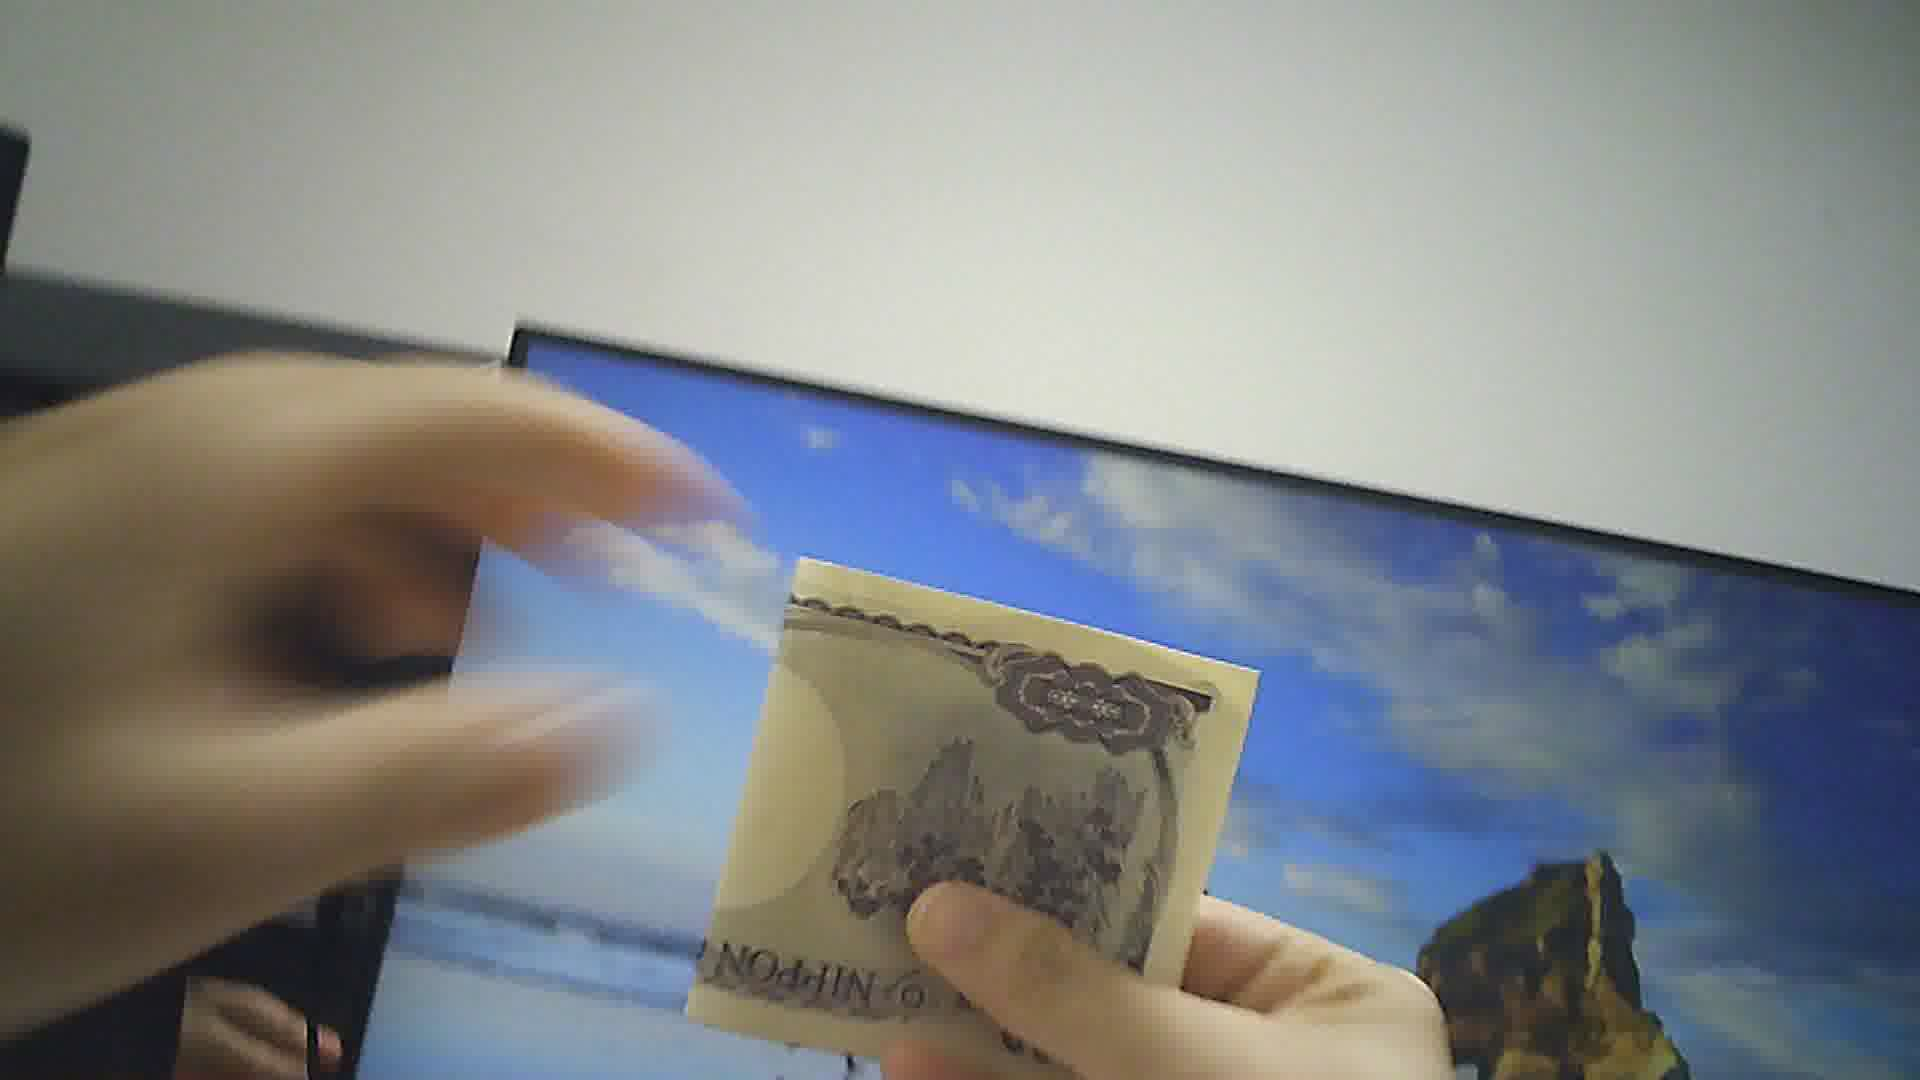5,000 Yen: (700, 538, 1265, 1079)
